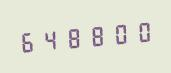eight: (62, 22, 83, 53), (84, 20, 105, 51)
four: (39, 24, 60, 55)
six: (17, 25, 38, 56)
zero: (106, 18, 127, 49), (128, 16, 149, 47)
